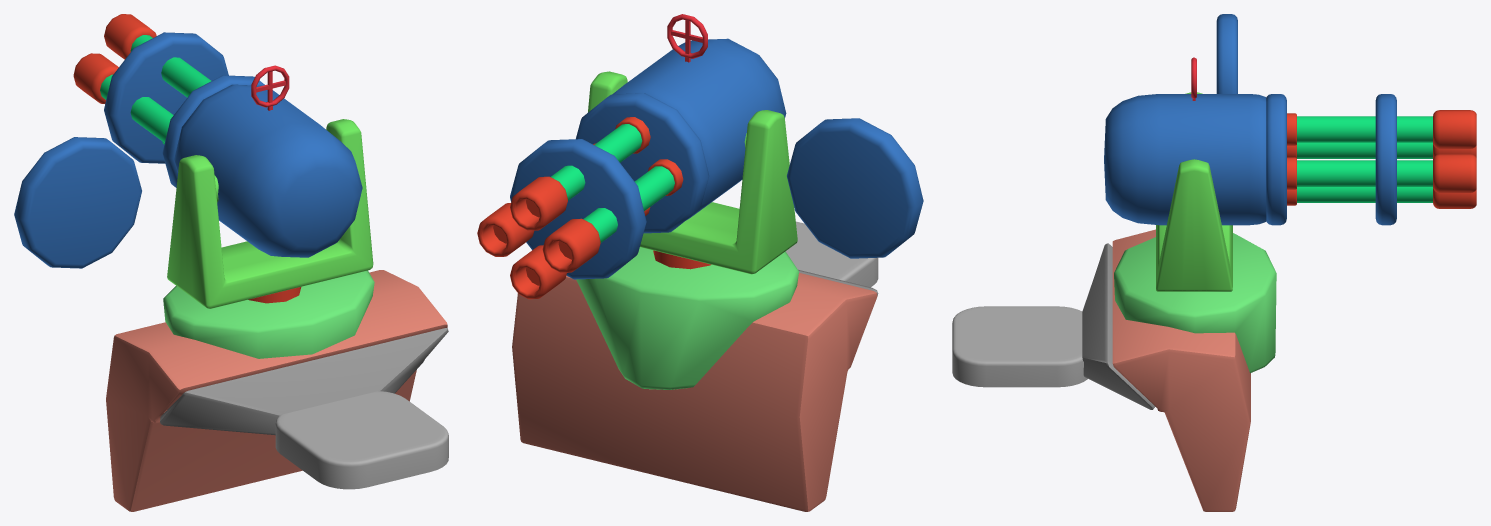
Rendered from minigun.fbx.
The picture shows the model from 3 angles, left to right: view 1: azimuth 30°, elevation 25°; view 2: azimuth 150°, elevation 25°; view 3: azimuth 270°, elevation 25°; orthographic projection. The views are drawn at different scales.
Parts seen in each view (by area): view 1: WeaponBase, minigun_back, platform_1, minigun_up, up_cylinder, platform_2, Cross; view 2: WeaponBase, minigun_up, platform_2, up_cylinder, platform_1, minigun_back, Cross; view 3: WeaponBase, minigun_up, minigun_back, platform_2, platform_1, up_cylinder.
Boxes of the visible parts, x1,y1,x2,y2 form: WeaponBase: [106, 270, 448, 511]; minigun_back: [174, 84, 362, 257]; platform_1: [167, 119, 373, 308]; minigun_up: [73, 14, 264, 187]; up_cylinder: [14, 137, 141, 268]; platform_2: [163, 270, 374, 358]; Cross: [251, 65, 289, 110]; WeaponBase: [512, 221, 878, 511]; minigun_up: [477, 93, 709, 299]; platform_2: [576, 247, 798, 389]; up_cylinder: [787, 118, 923, 258]; platform_1: [588, 71, 797, 274]; minigun_back: [613, 38, 786, 220]; Cross: [667, 14, 707, 62]; WeaponBase: [952, 229, 1250, 511]; minigun_up: [1266, 94, 1476, 225]; minigun_back: [1104, 94, 1266, 225]; platform_2: [1114, 233, 1276, 373]; platform_1: [1156, 92, 1232, 291]; up_cylinder: [1216, 14, 1237, 93].
Bounding box in the file's own units: 126 × 136 × 165.
